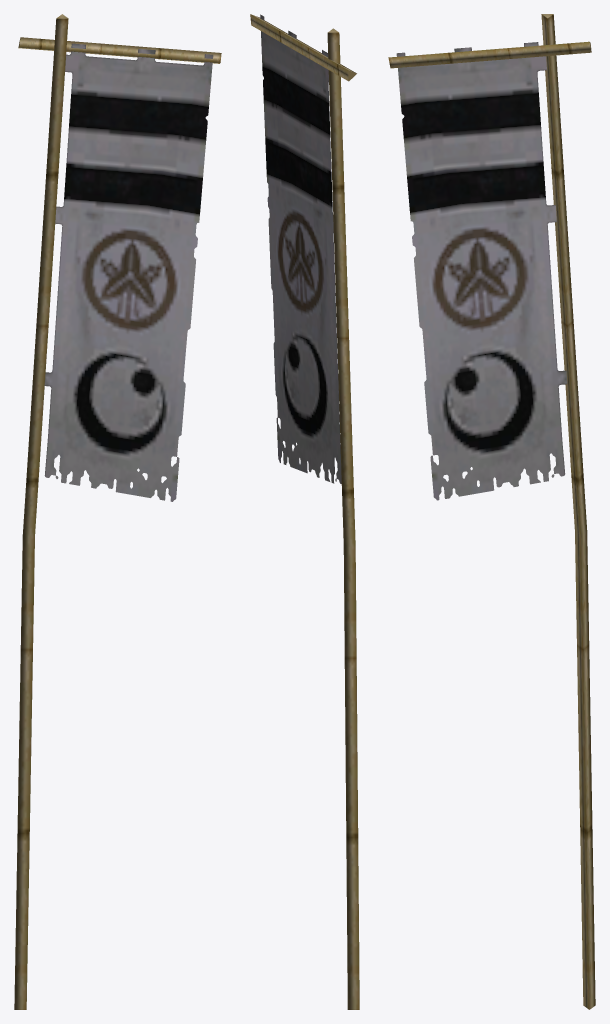
File: banner.fbx
The picture shows the model from 3 angles, left to right: view 1: azimuth 90°, elevation 25°; view 2: azimuth 210°, elevation 25°; view 3: azimuth 270°, elevation 25°; orthographic projection. The views are drawn at different scales.
Visible parts, largest first — view 1: mesh_2, mesh_0, mesh_1; view 2: mesh_2, mesh_0, mesh_1; view 3: mesh_2, mesh_0, mesh_1.
Boxes of the visible parts, box(x1,y1,x2,y2) form: mesh_2: box(44, 43, 213, 501); mesh_0: box(14, 14, 68, 1009); mesh_1: box(18, 37, 221, 63); mesh_2: box(260, 14, 341, 483); mesh_0: box(327, 28, 359, 1009); mesh_1: box(250, 14, 356, 81); mesh_2: box(396, 42, 567, 500); mesh_0: box(541, 14, 595, 1009); mesh_1: box(388, 41, 591, 68).
Size of the model in its own units: 4.61 by 474 by 89.78.
1 material, 1 textured.
